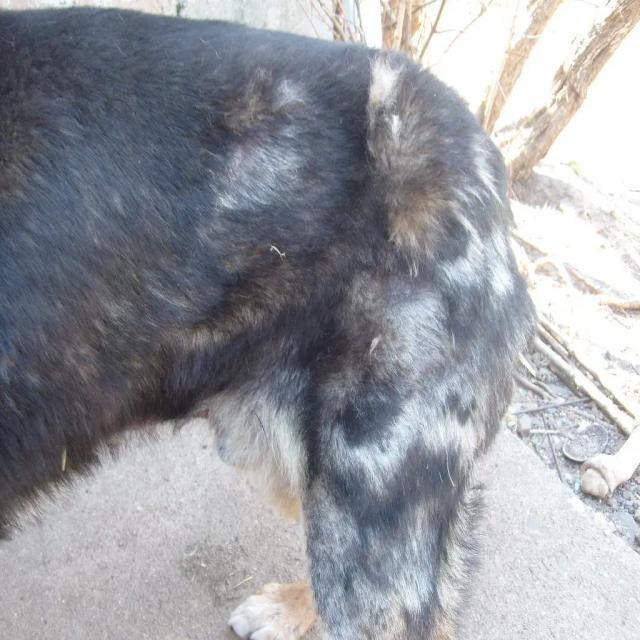mange: (213, 78, 524, 632)
